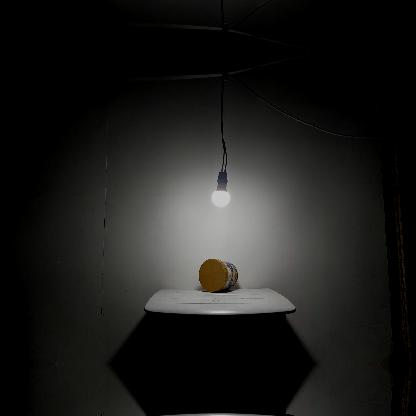Lady-s-Choice: (198, 258, 238, 292)
